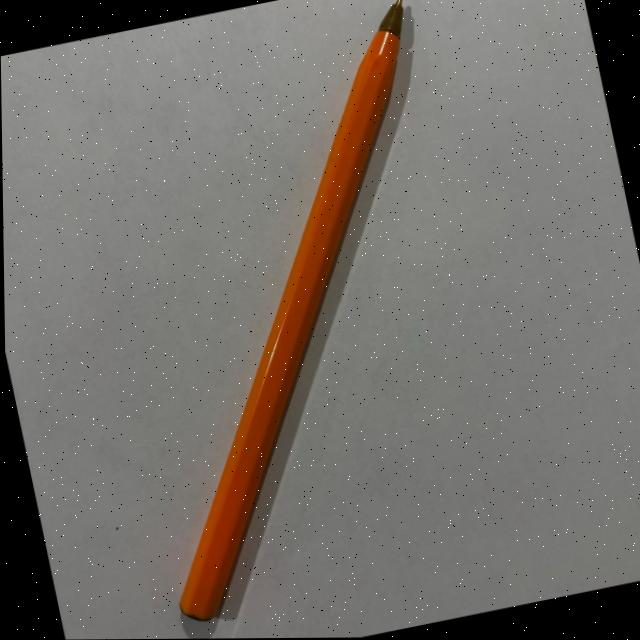pencil: (177, 0, 404, 621)
